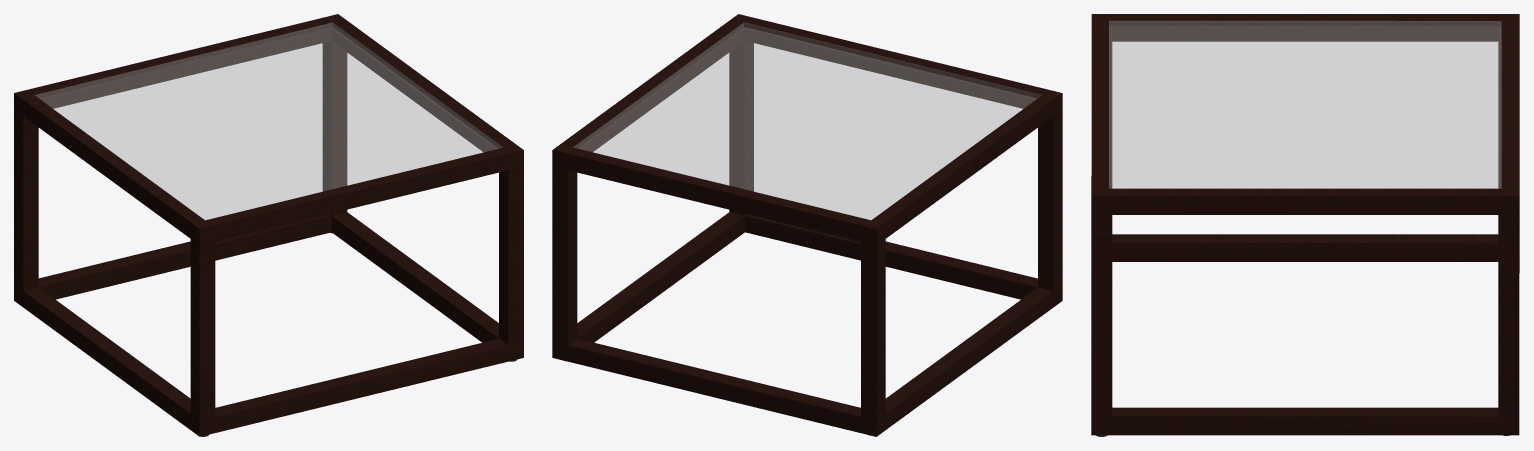
The model's file is model-gelap.glb.
The picture shows the model from 3 angles, left to right: view 1: azimuth 30°, elevation 25°; view 2: azimuth 150°, elevation 25°; view 3: azimuth 270°, elevation 25°; orthographic projection. The views are drawn at different scales.
Visible parts, largest first — view 1: C-skp28FD; view 2: C-skp28FD; view 3: C-skp28FD.
Part boxes in pixels (box(x1,y1,x2,y2)): C-skp28FD: box(14, 14, 523, 436); C-skp28FD: box(552, 14, 1062, 436); C-skp28FD: box(1091, 14, 1519, 436).
Size of the model in its own units: 0.6332 by 0.3939 by 0.6289.
3 materials, 1 textured.
